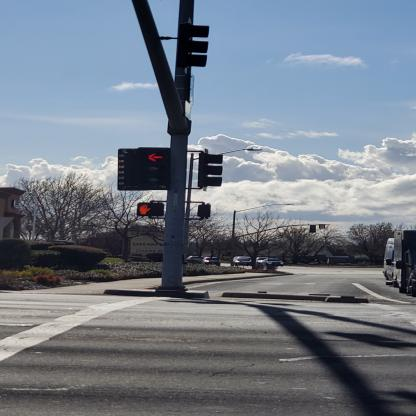left-red: (140, 147, 170, 189)
